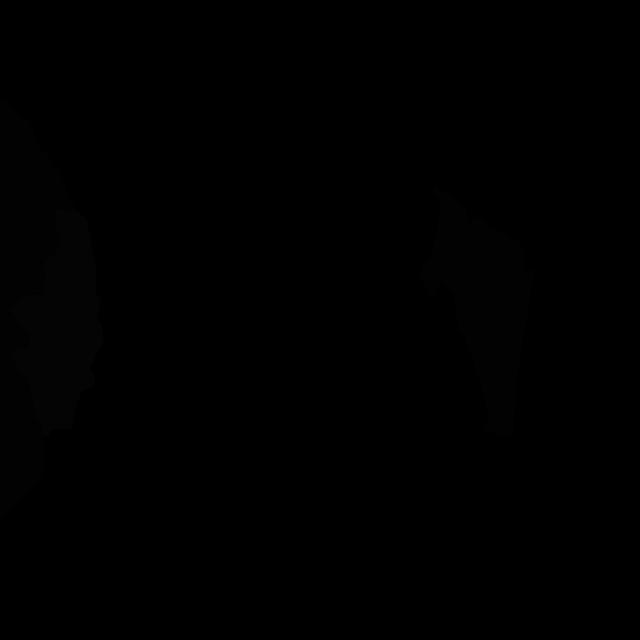cardboard: (420, 183, 534, 439), (0, 97, 76, 467), (0, 419, 45, 521)
soft_plastic: (10, 209, 104, 438)
